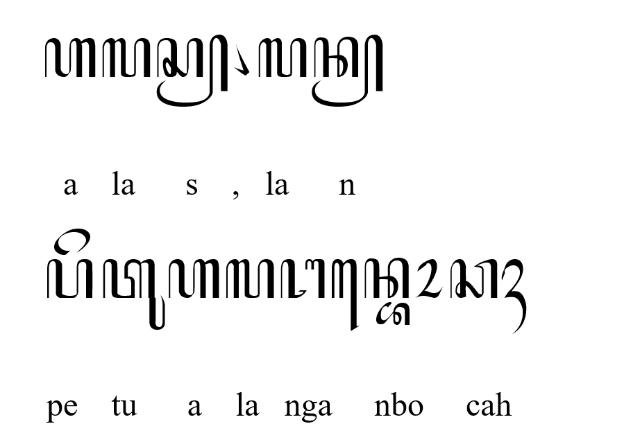-n: (311, 34, 384, 108)
-s: (156, 34, 228, 108)
_b: (374, 302, 410, 326)
_h1: (501, 258, 527, 336)
c: (450, 258, 498, 300)
e: (53, 228, 91, 256)
e1: (331, 258, 359, 332)
h: (168, 258, 220, 300), (44, 38, 96, 78)
kom: (232, 42, 250, 76)
l: (226, 258, 274, 302), (101, 38, 151, 78), (258, 38, 308, 78)
n: (364, 257, 411, 300)
nga: (280, 257, 326, 300)
o: (414, 260, 444, 298)
p: (46, 259, 94, 301)
tu: (102, 258, 166, 332)
